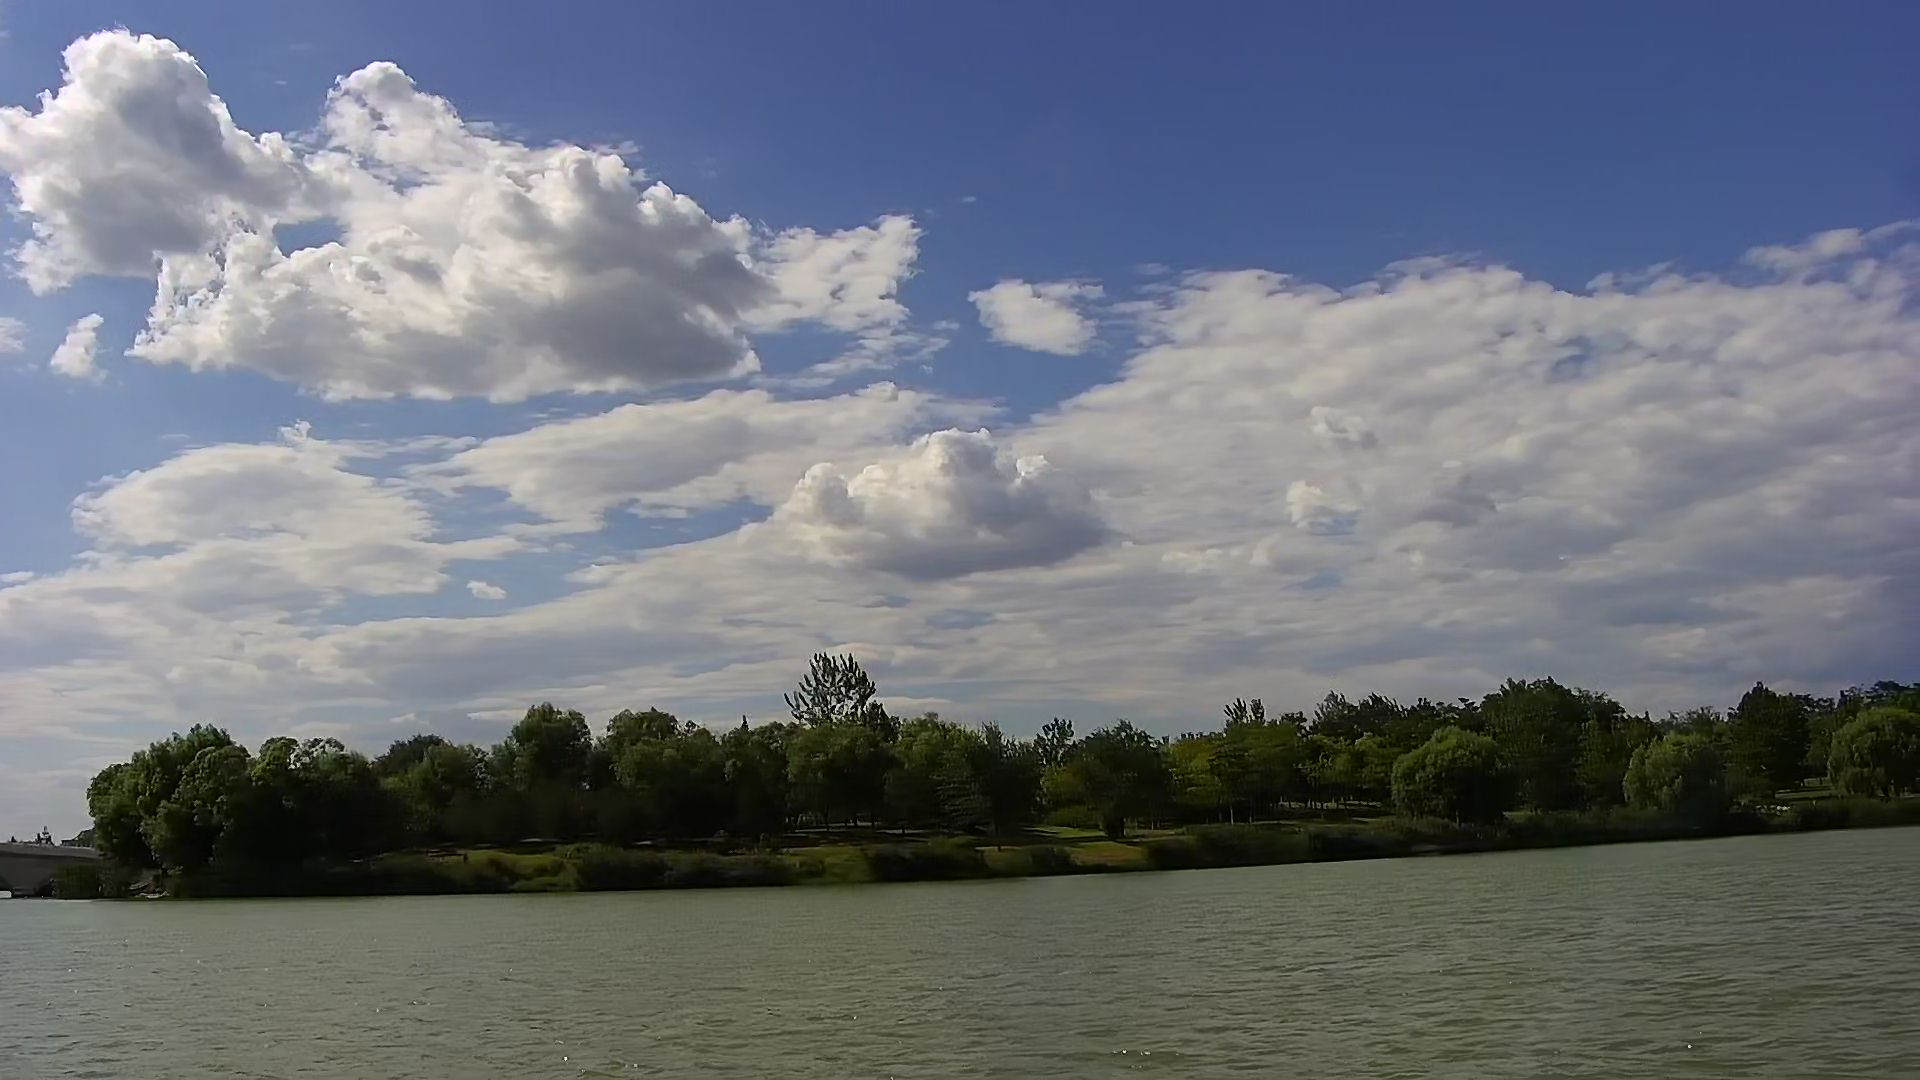bridge: (1, 844, 102, 899)
